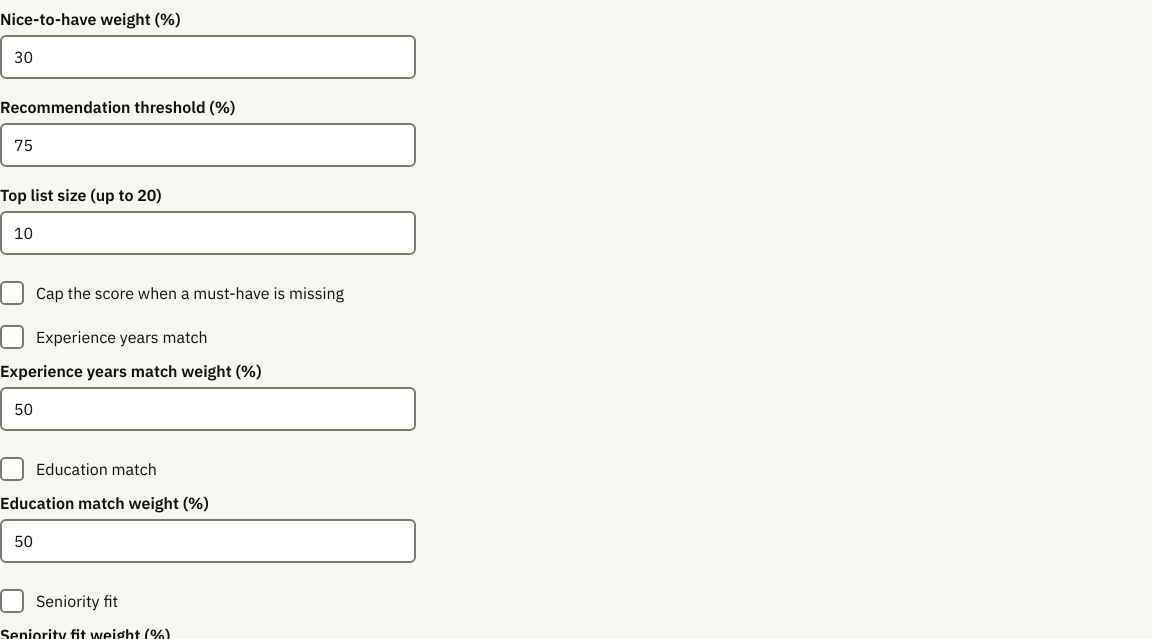
Test case: scoring defaults › saves every value and the factors, then confirms in a popup
Expected: the number field showing "75" is shown, [0,123,416,167]
Replace the text in the number field labelled "Top list size (up to 20)" with "5" at (208, 233), box [0,211,416,255]
(page scrolled)
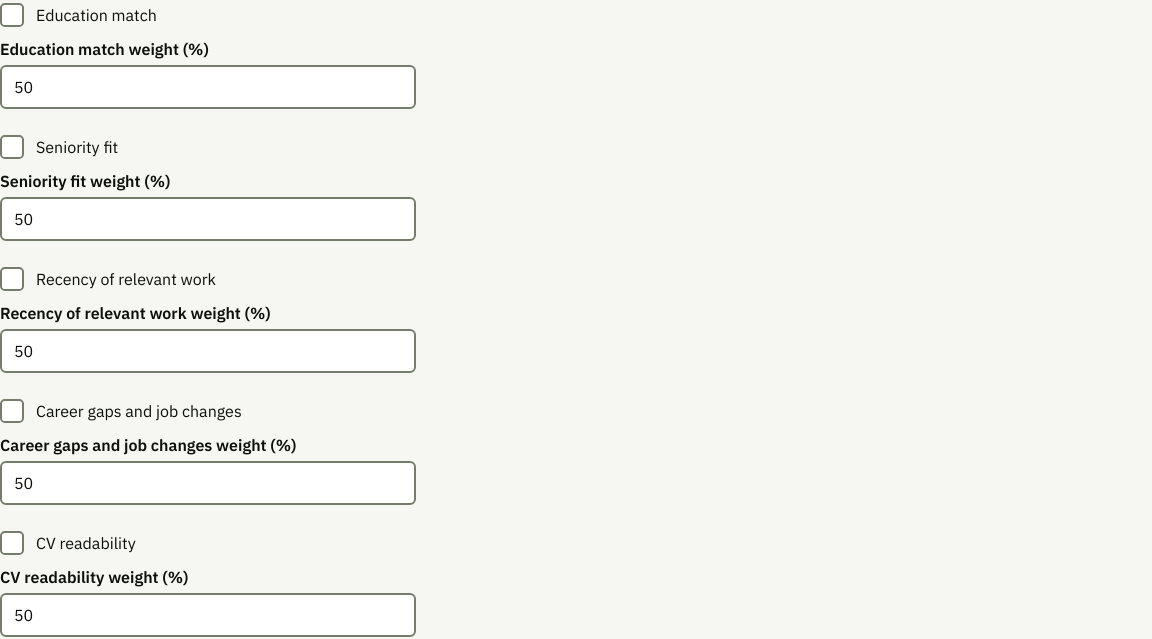
Click the checkbox labelled "Recency of relevant work" at (12, 279), box [0,267,24,291]
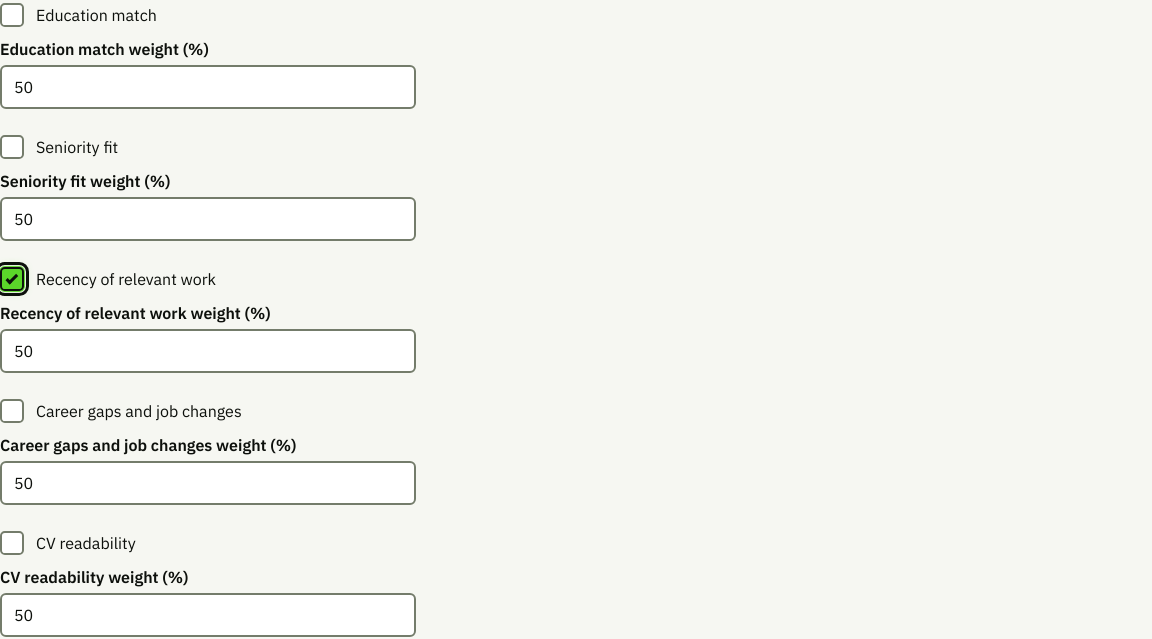
Replace the text in the number field labelled "Recency of relevant work weight (%)" with "30" at (208, 351), box [0,329,416,373]
(page scrolled)
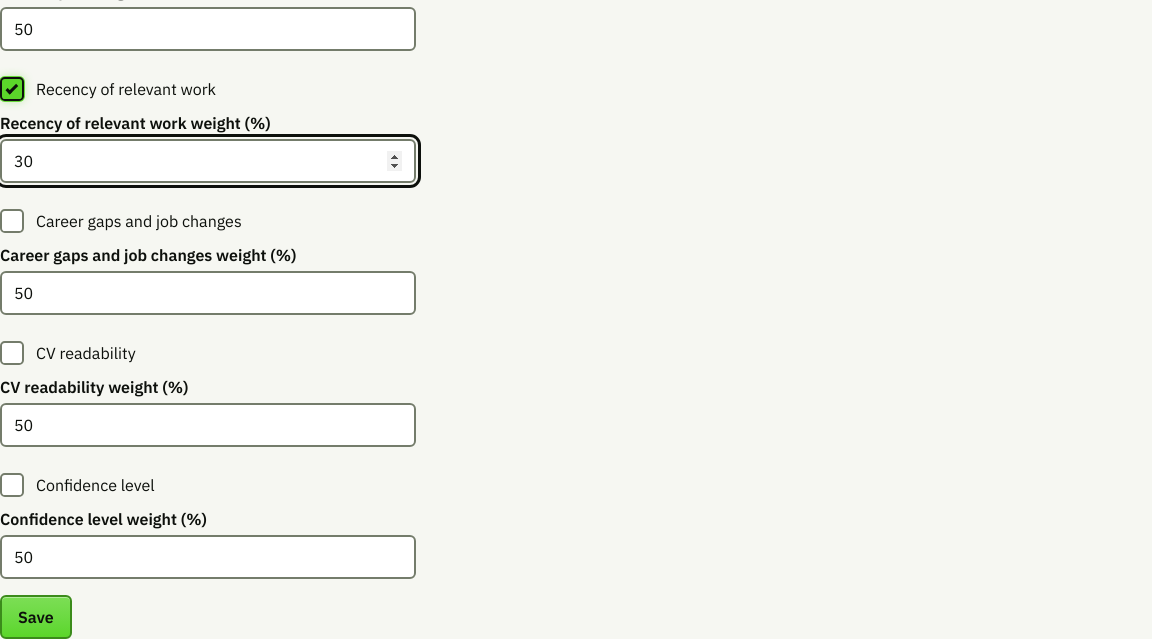
Click the button "Save" at (36, 617), box [0,595,72,638]
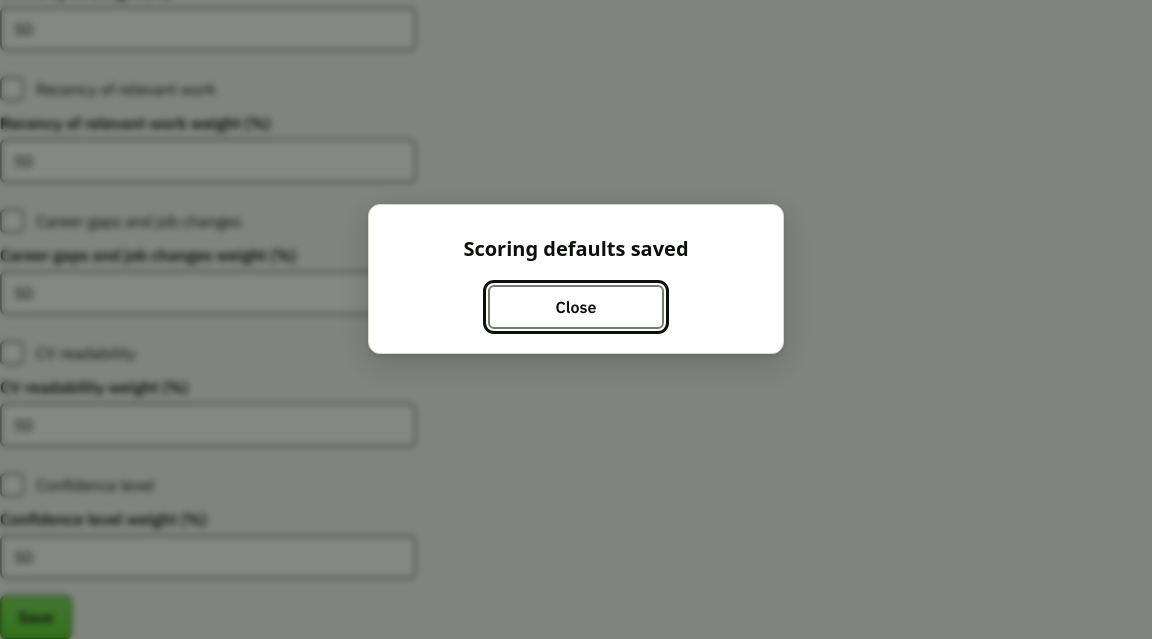
Now the heading "Scoring defaults saved" is shown, box [463,235,688,262]
